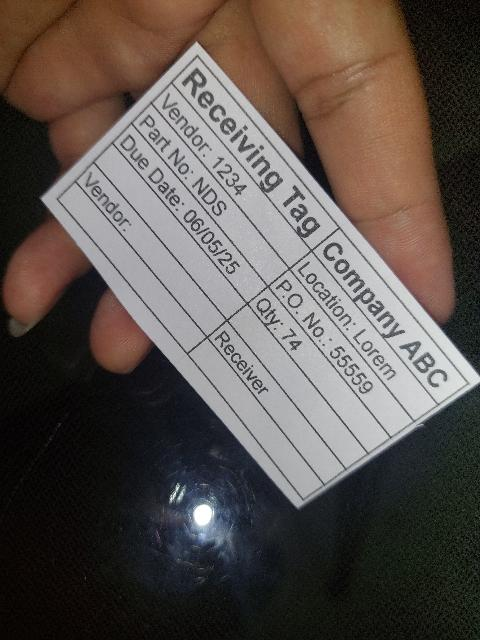PO no: (267, 269, 415, 439)
part no: (131, 103, 289, 288)
qty: (248, 287, 391, 455)
tags: (41, 42, 480, 506)
